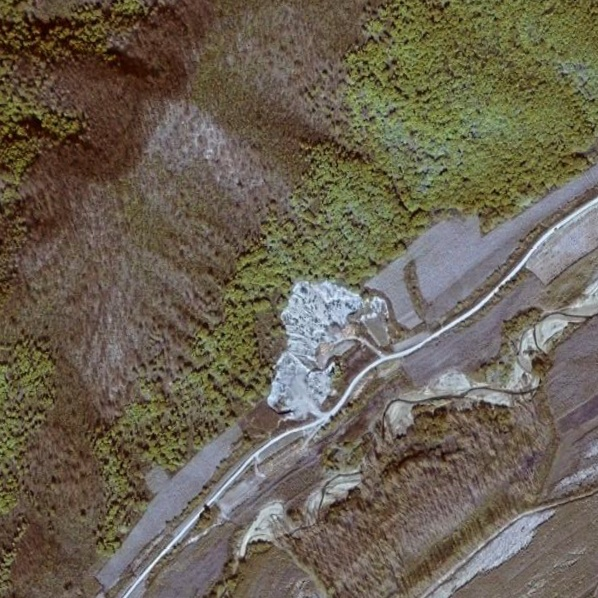slope: (266, 279, 391, 417)
